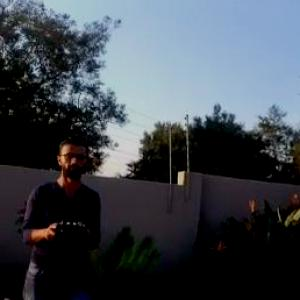follow: (17, 123, 107, 299)
